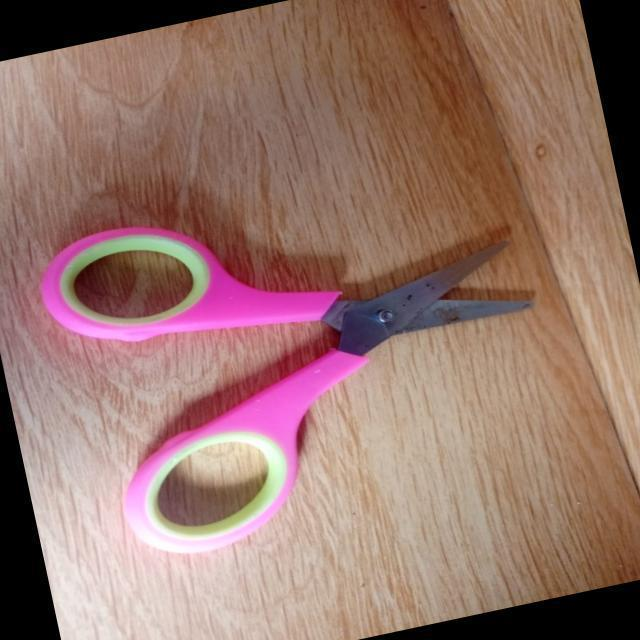scissors: (0, 106, 606, 591)
